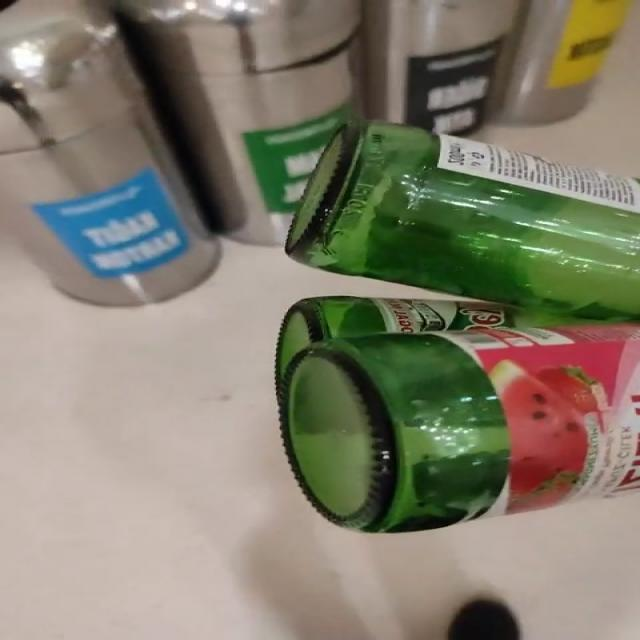glass: (276, 122, 640, 534)
